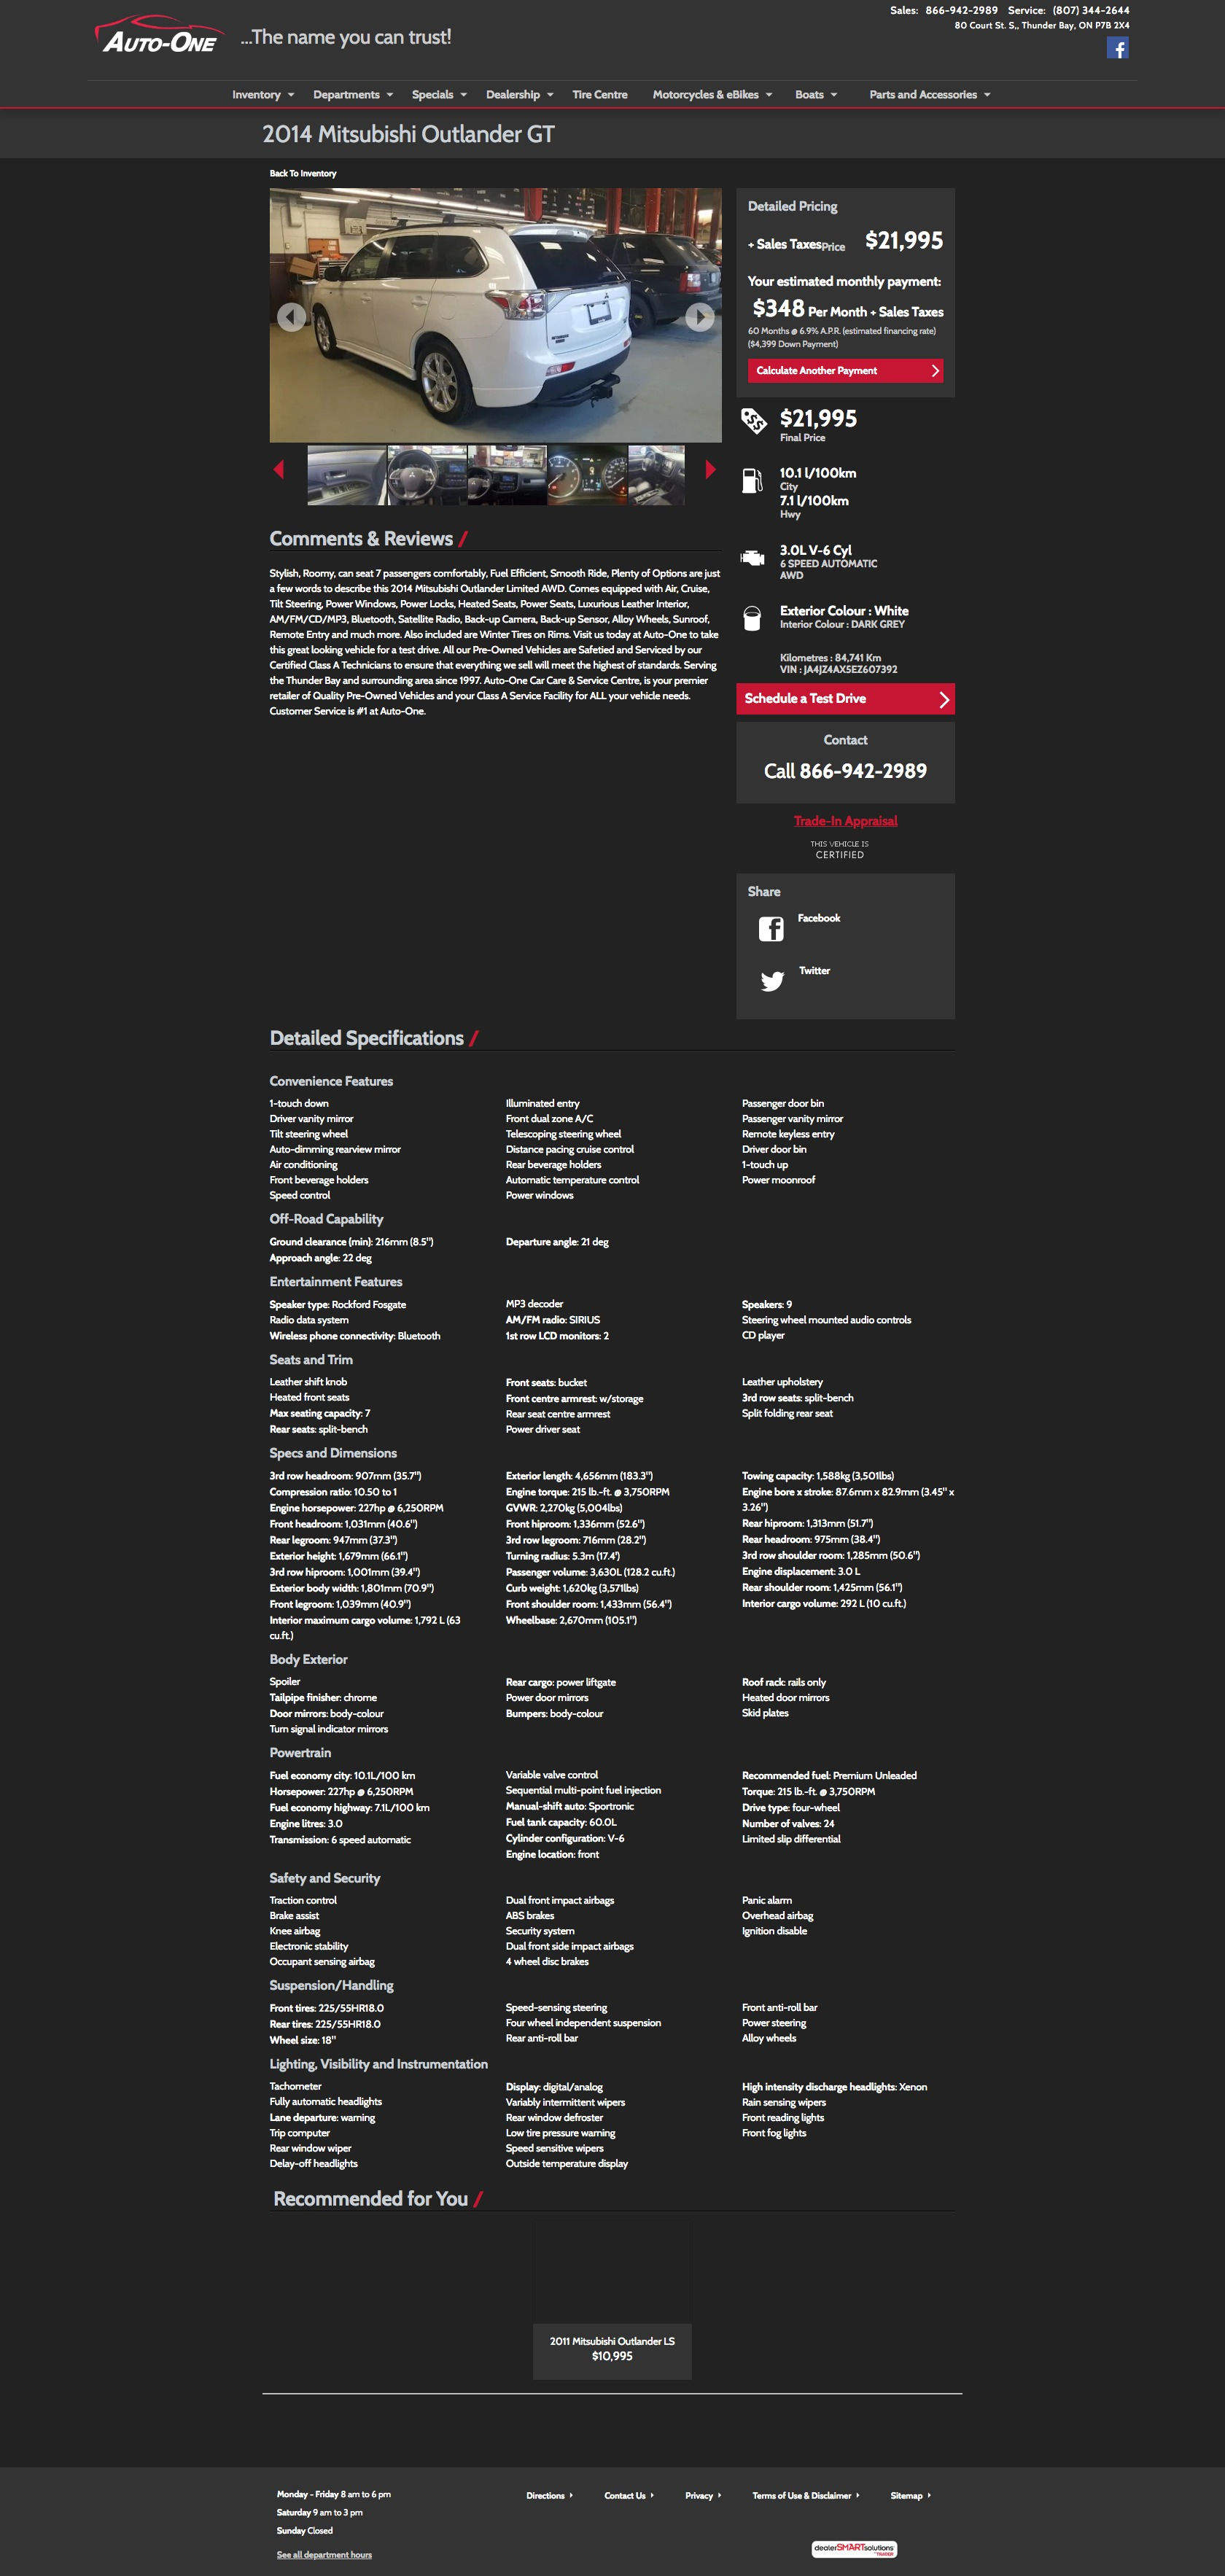car: (704, 460, 719, 480)
